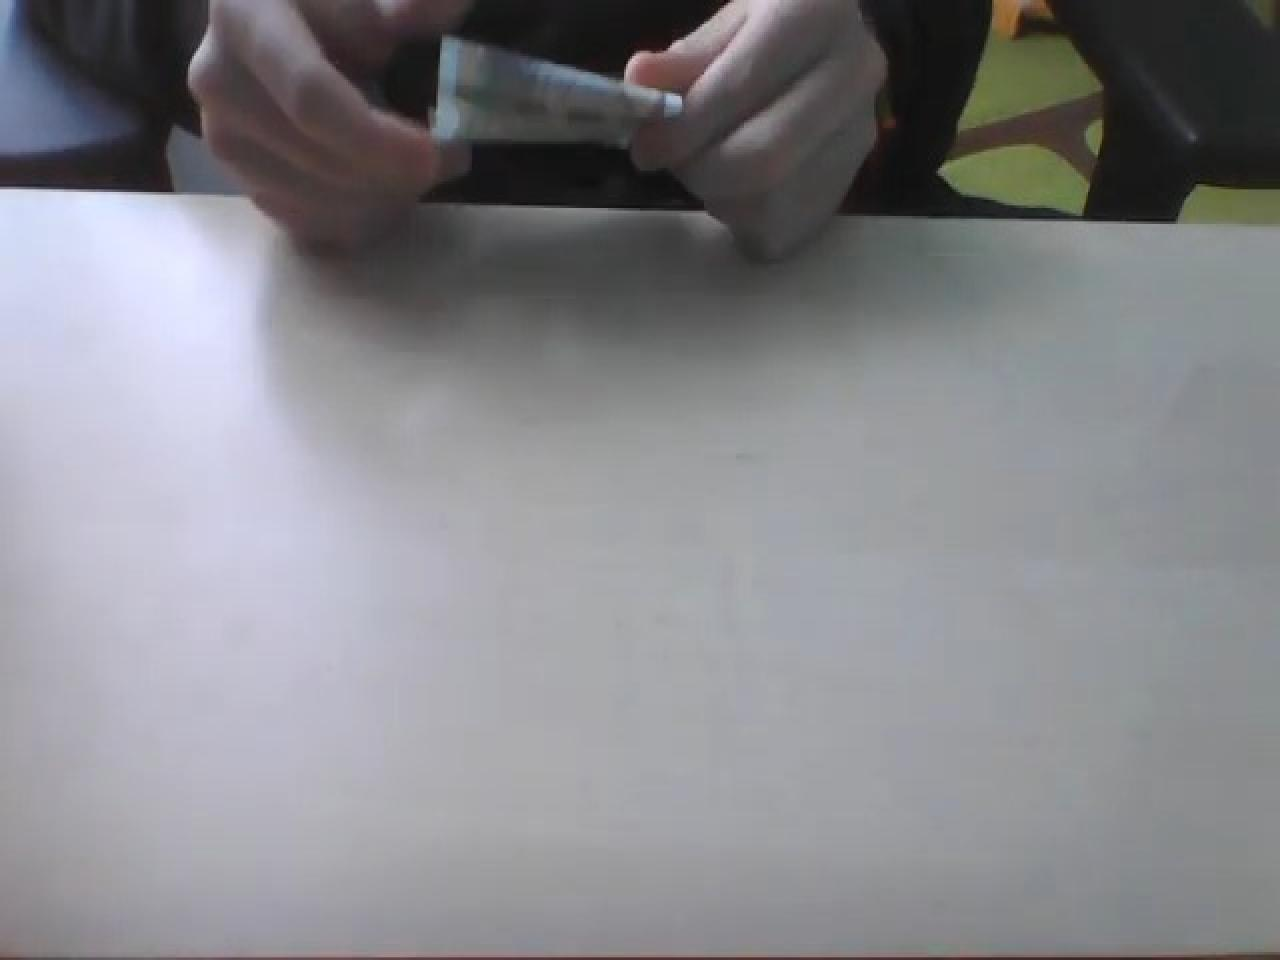100leva: (426, 29, 686, 151)
